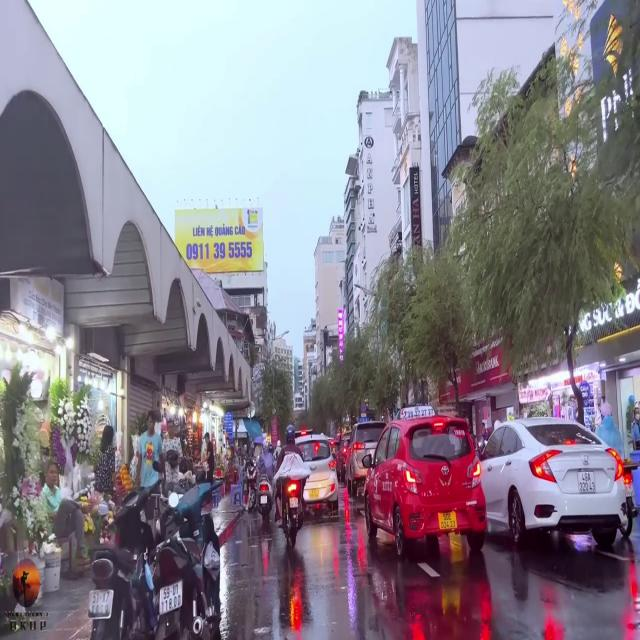bien_trang: (86, 587, 112, 621), (158, 584, 184, 612), (575, 470, 598, 498)
bien_vang: (436, 508, 458, 533)
